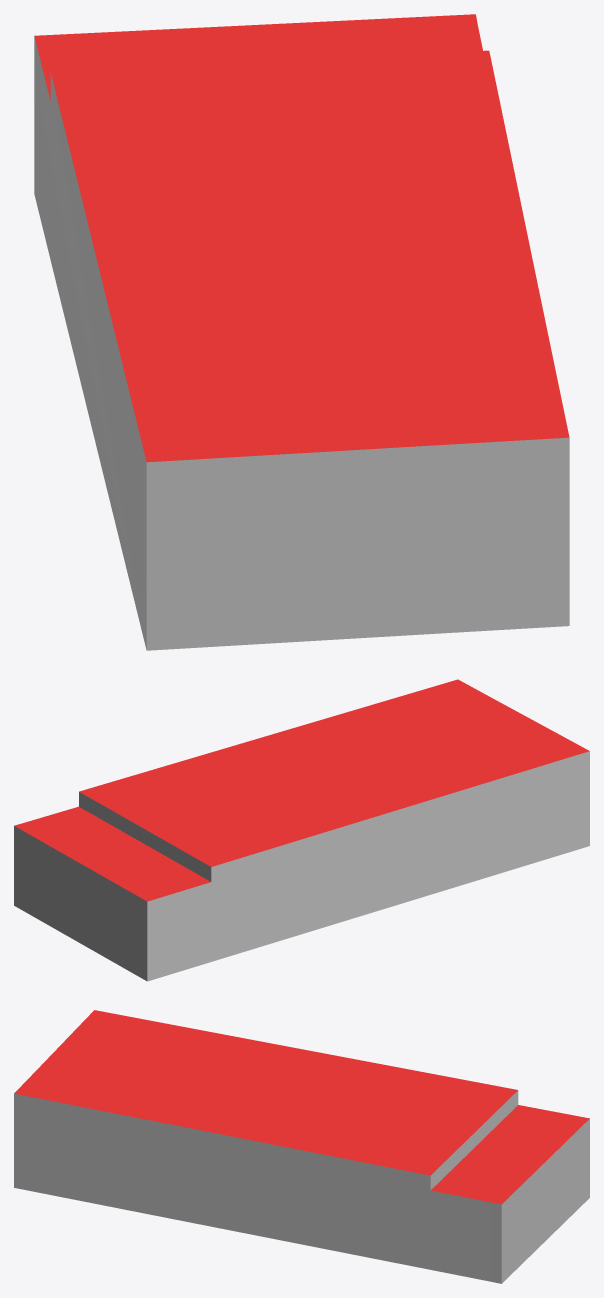
The model's file is DEBY_LOD2_4908173.dae.
The picture shows the model from 3 angles, top to bottom: view 1: azimuth 30°, elevation 25°; view 2: azimuth 150°, elevation 25°; view 3: azimuth 270°, elevation 25°; orthographic projection. The views are drawn at different scales.
Bounding box in the file's own units: 17.29 × 23.42 × 4.23.
